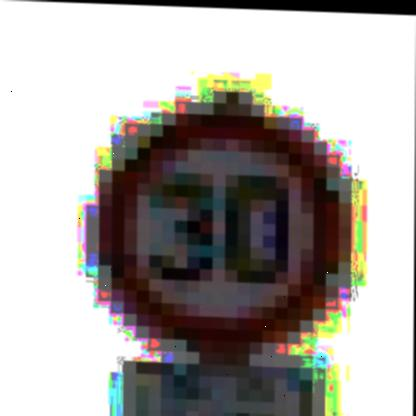Speed Limit -30-: (96, 87, 355, 360)
